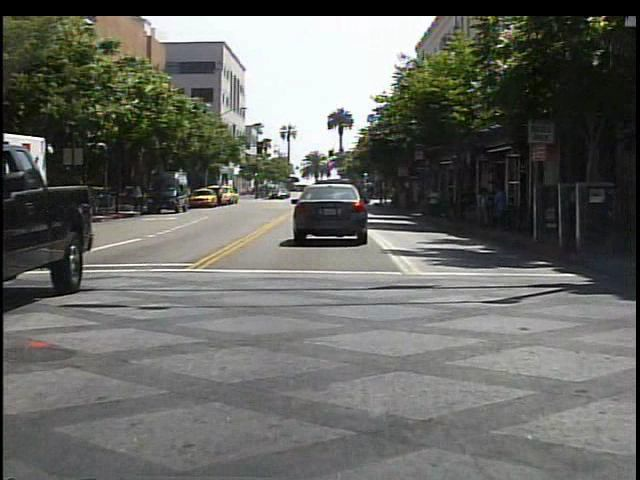person: (425, 183, 445, 221)
